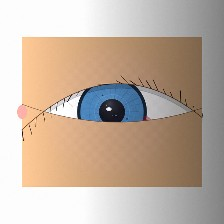hemorrhage_spot: (85, 93, 165, 158)
